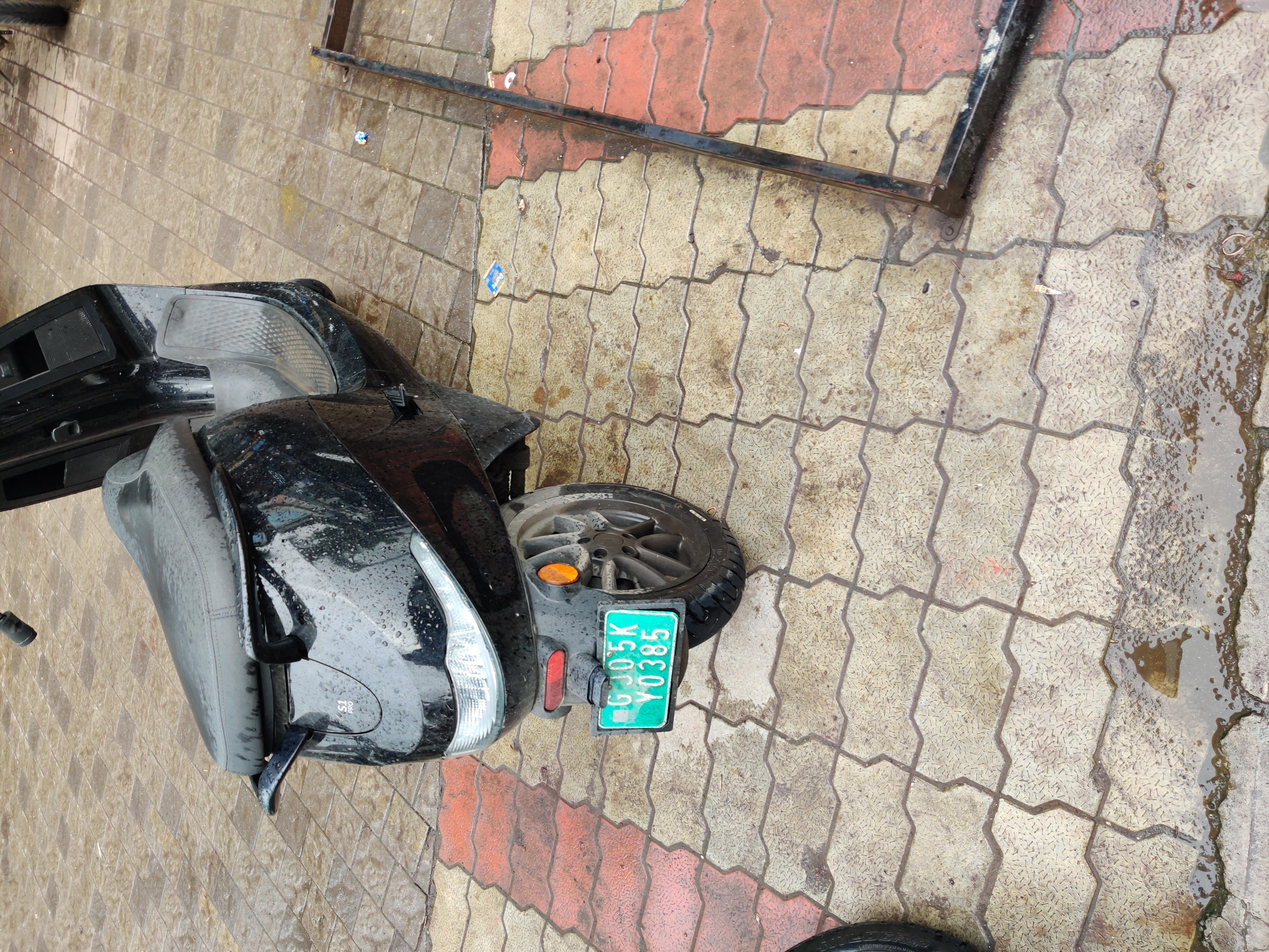green license plate: (291, 447, 469, 512)
